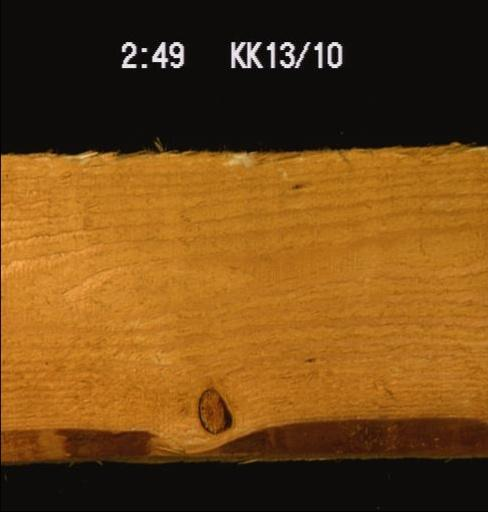dry_knot: (194, 385, 232, 434)
wave: (205, 400, 483, 461), (0, 420, 182, 459)
